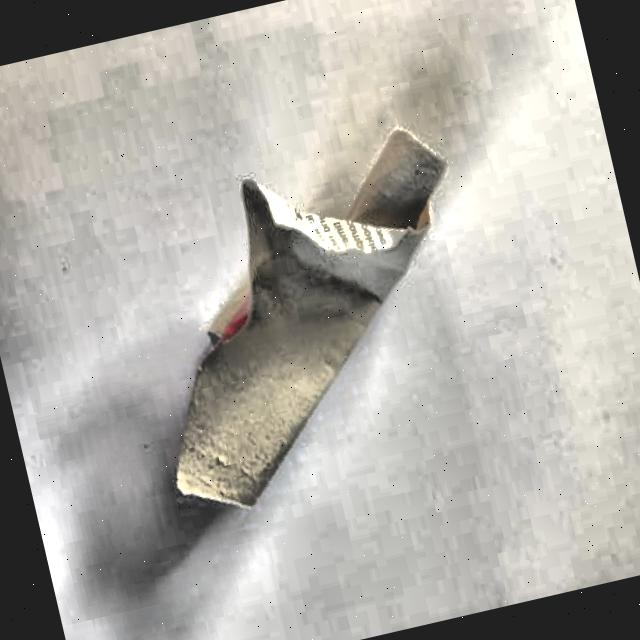paper: (104, 120, 513, 525)
